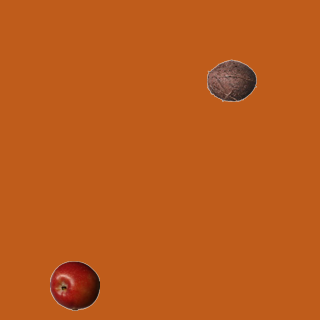Apple Braeburn: (49, 260, 99, 310)
Cocos: (206, 55, 256, 105)
